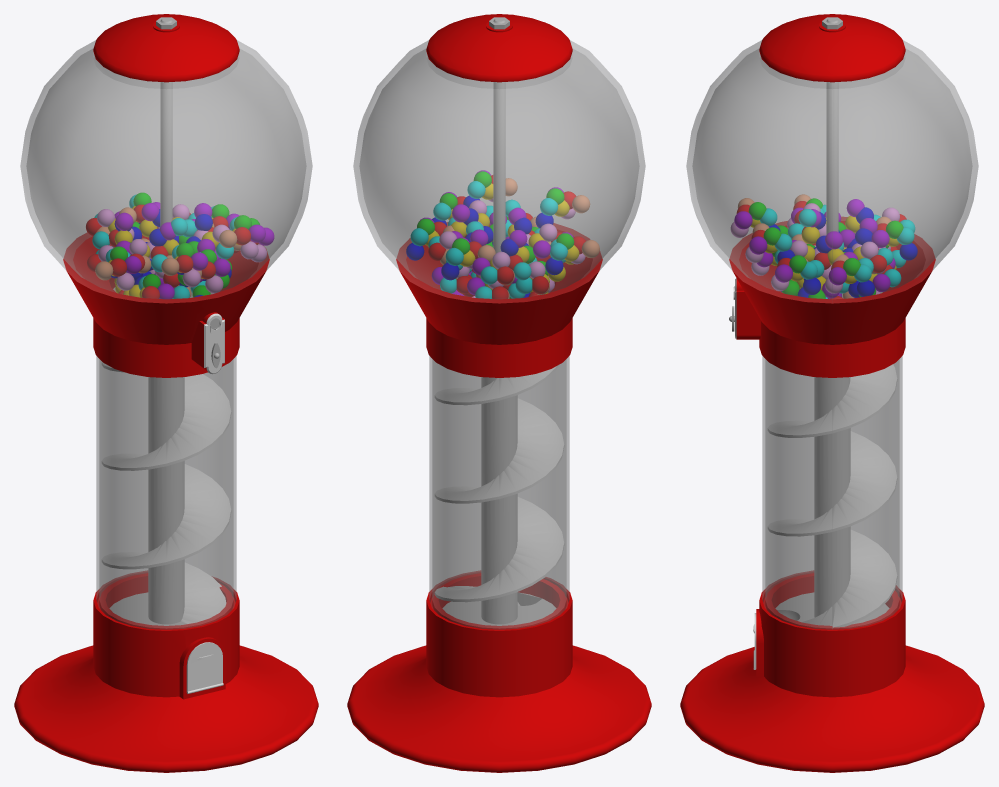
Rendered from gumball-machine.glb.
3 views of the same model, side by side, from view 1: azimuth 30°, elevation 25°; view 2: azimuth 150°, elevation 25°; view 3: azimuth 270°, elevation 25° (orthographic).
Visible parts, largest first — view 1: SketchUp, SketchUp.012, SketchUp.025, SketchUp.013, SketchUp.003, SketchUp.015, SketchUp.014, SketchUp.237, SketchUp.004, flap1, SketchUp.002, SketchUp.029 (+2 smaller); view 2: SketchUp, SketchUp.012, SketchUp.025, SketchUp.013, SketchUp.003, SketchUp.015, SketchUp.014, SketchUp.237, SketchUp.004, SketchUp.002, SketchUp.029, SketchUp.026; view 3: SketchUp, SketchUp.012, SketchUp.025, SketchUp.013, SketchUp.003, SketchUp.015, SketchUp.237, SketchUp.014, SketchUp.004, SketchUp.002, SketchUp.029, SketchUp.026.
Boxes of the visible parts, left/top/right/bottom form: SketchUp: left=20, top=40, right=312, bottom=303; SketchUp.012: left=96, top=356, right=236, bottom=629; SketchUp.025: left=14, top=570, right=318, bottom=772; SketchUp.013: left=99, top=359, right=233, bottom=627; SketchUp.003: left=63, top=232, right=269, bottom=377; SketchUp.015: left=101, top=362, right=231, bottom=623; SketchUp.014: left=109, top=377, right=186, bottom=625; SketchUp.237: left=93, top=14, right=239, bottom=82; SketchUp.004: left=160, top=82, right=172, bottom=226; flap1: left=186, top=642, right=223, bottom=693; SketchUp.002: left=73, top=235, right=258, bottom=292; SketchUp.029: left=99, top=573, right=233, bottom=629; SketchUp: left=353, top=40, right=645, bottom=303; SketchUp.012: left=429, top=356, right=569, bottom=629; SketchUp.025: left=347, top=570, right=651, bottom=772; SketchUp.013: left=432, top=359, right=566, bottom=627; SketchUp.003: left=396, top=222, right=602, bottom=377; SketchUp.015: left=434, top=365, right=564, bottom=602; SketchUp.014: left=442, top=377, right=556, bottom=625; SketchUp.237: left=426, top=14, right=572, bottom=82; SketchUp.004: left=493, top=82, right=505, bottom=252; SketchUp.002: left=406, top=224, right=592, bottom=292; SketchUp.029: left=432, top=573, right=566, bottom=629; SketchUp.026: left=438, top=576, right=560, bottom=607; SketchUp: left=686, top=40, right=978, bottom=303; SketchUp.012: left=762, top=356, right=902, bottom=629; SketchUp.025: left=680, top=570, right=984, bottom=772; SketchUp.013: left=765, top=359, right=899, bottom=628; SketchUp.003: left=729, top=217, right=935, bottom=377; SketchUp.015: left=767, top=364, right=897, bottom=627; SketchUp.237: left=759, top=14, right=905, bottom=82; SketchUp.014: left=775, top=377, right=889, bottom=623; SketchUp.004: left=826, top=82, right=838, bottom=234; SketchUp.002: left=739, top=221, right=925, bottom=292; SketchUp.029: left=765, top=573, right=899, bottom=629; SketchUp.026: left=771, top=576, right=893, bottom=607.
Size of the model in its own units: 0.635 by 1.59 by 0.635.
